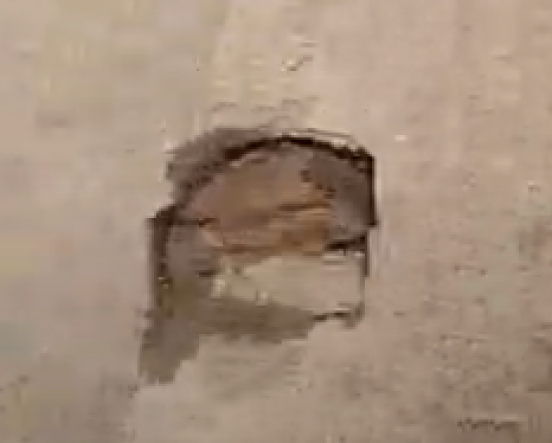Berlubang: (137, 110, 380, 388)
